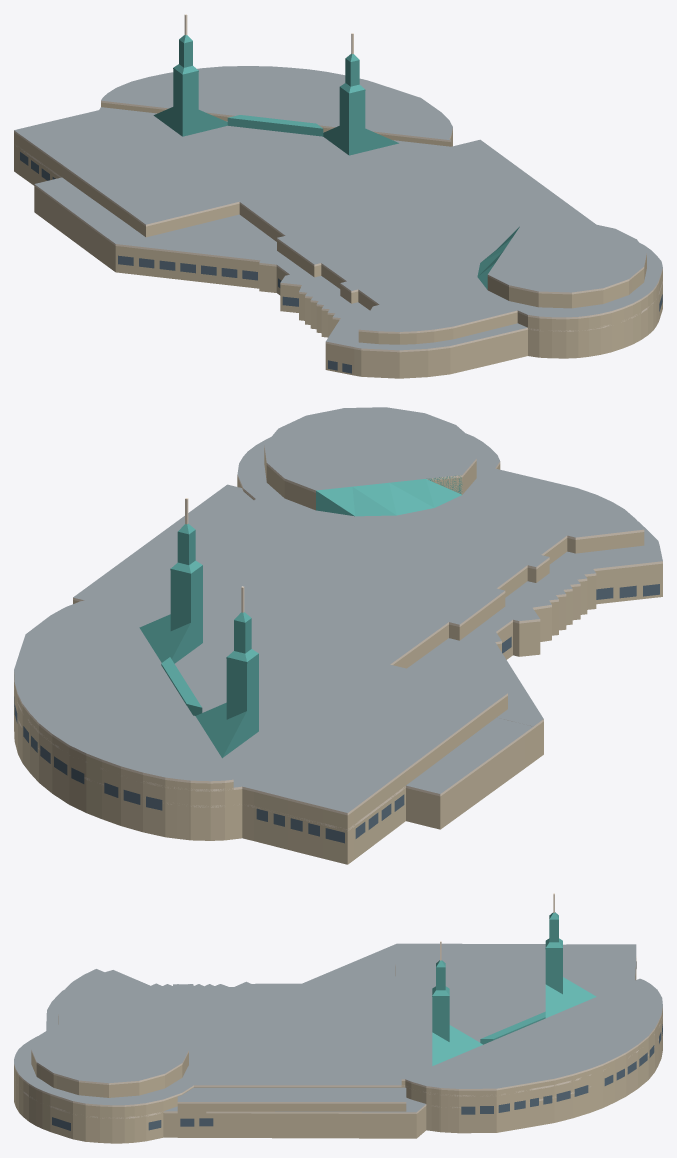
The model's file is pdx-oregon-convention-center.glb.
3 views of the same model, one above another, from view 1: azimuth 30°, elevation 25°; view 2: azimuth 150°, elevation 25°; view 3: azimuth 270°, elevation 25° (orthographic). The views are drawn at different scales.
Parts seen in each view (by area): view 1: Oregon Convention Center; view 2: Oregon Convention Center; view 3: Oregon Convention Center.
Part boxes in pixels (bbox=[...]): Oregon Convention Center: bbox=[14, 14, 662, 378]; Oregon Convention Center: bbox=[14, 407, 662, 864]; Oregon Convention Center: bbox=[14, 893, 662, 1143].
Bounding box in the file's own units: 212 × 83.5 × 335.
